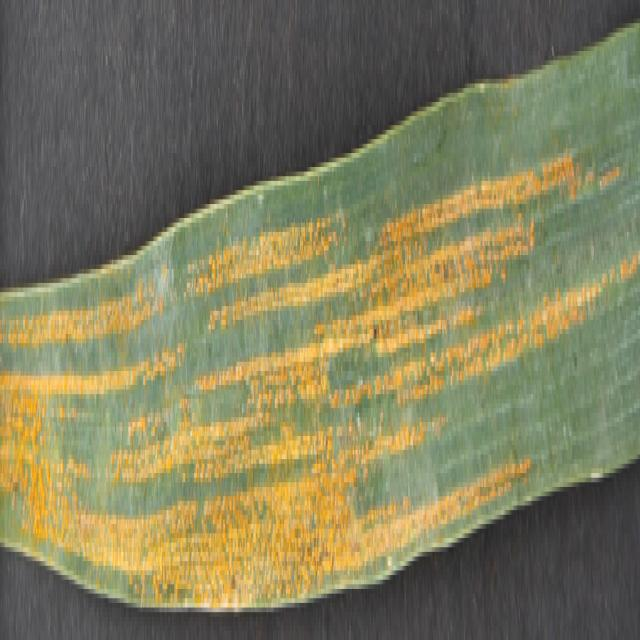leaf rust: (1, 125, 639, 612)
